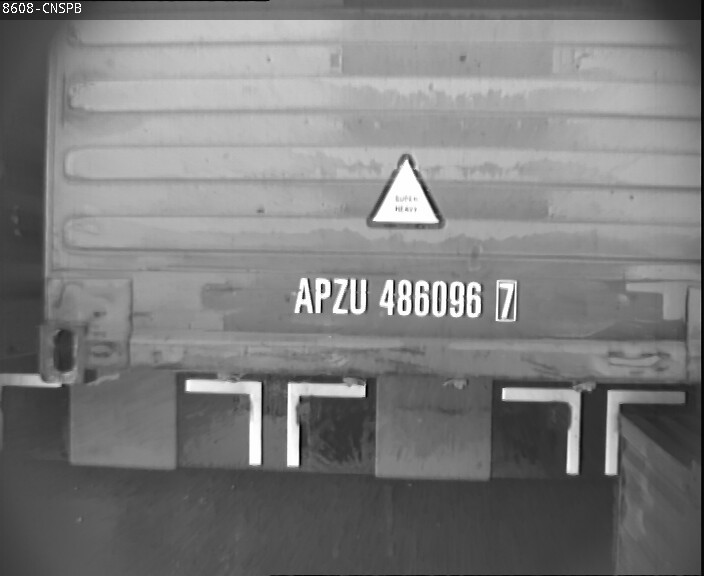groundmarker_1: (185, 377, 366, 466), (501, 386, 682, 475)
